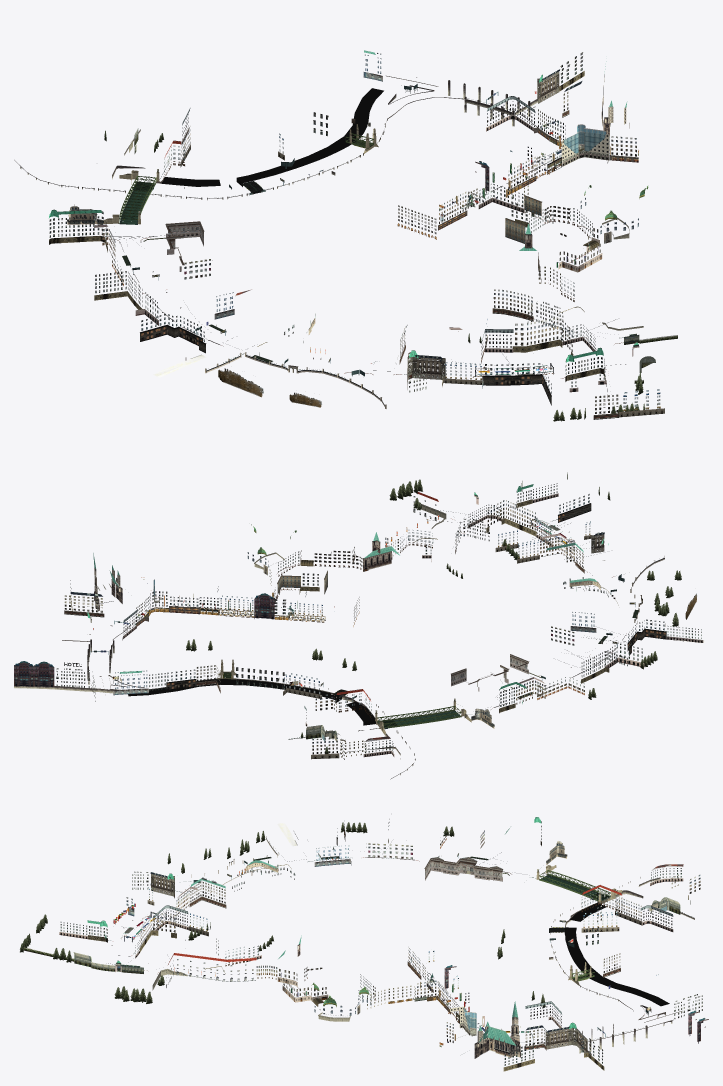
Rendered from track-EU_C1_V1.glb.
3 views of the same model, one above another, from view 1: azimuth 30°, elevation 25°; view 2: azimuth 150°, elevation 25°; view 3: azimuth 270°, elevation 25° (orthographic). The views are drawn at different scales.
Visible parts, largest first — view 1: EU_C1_V1; view 2: EU_C1_V1; view 3: EU_C1_V1.
Boxes of the visible parts, bbox=[...] form: EU_C1_V1: bbox=[14, 50, 677, 421]; EU_C1_V1: bbox=[14, 472, 704, 779]; EU_C1_V1: bbox=[20, 817, 708, 1071].
Size of the model in its own units: 1267 by 161 by 1488.
117 materials, 116 textured.
